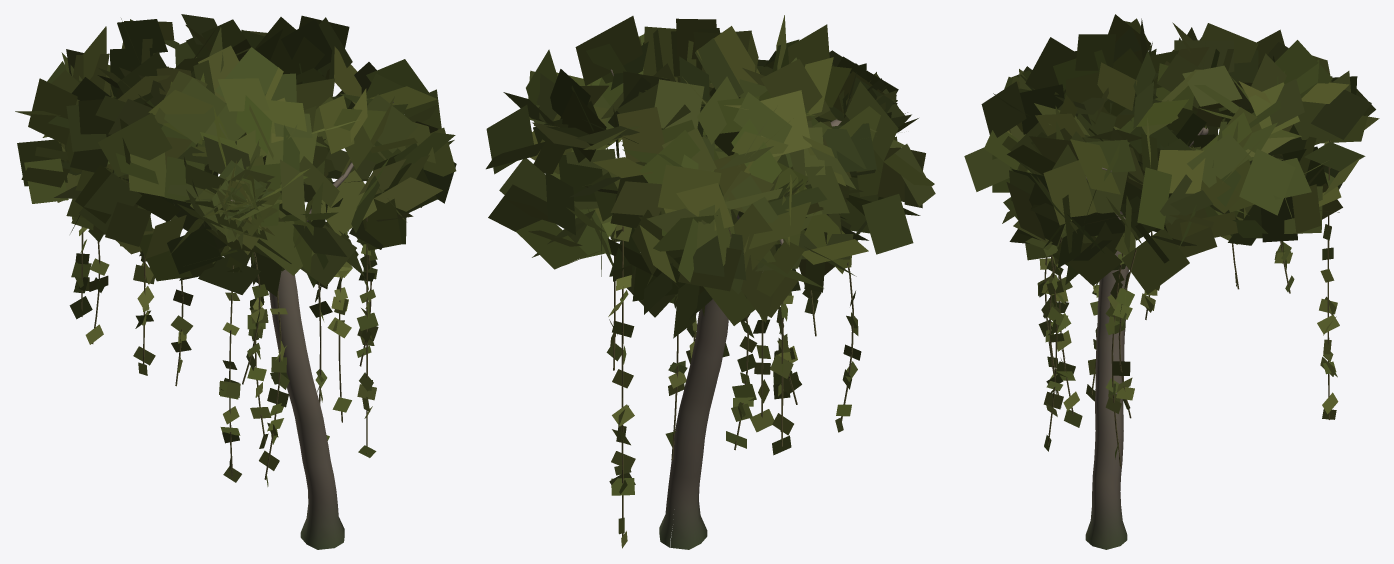
Rendered from broadleaf.jungle.dry.glb.
3 renders of one model, left to right at view 1: azimuth 30°, elevation 25°; view 2: azimuth 150°, elevation 25°; view 3: azimuth 270°, elevation 25°, orthographic. The views are drawn at different scales.
Parts seen in each view (by area): view 1: broadleaf_jungle_dry; view 2: broadleaf_jungle_dry; view 3: broadleaf_jungle_dry.
Part boxes in pixels (x1,y1,x2,y2): broadleaf_jungle_dry: (15, 14, 456, 549); broadleaf_jungle_dry: (486, 15, 935, 549); broadleaf_jungle_dry: (964, 14, 1379, 549).
Size of what is drawn, in the model's own units: 10.39 by 13.15 by 10.56.
